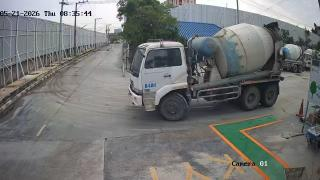cement_mixer_truck: (128, 22, 284, 120), (283, 43, 302, 72), (302, 53, 313, 70), (304, 49, 320, 59)
